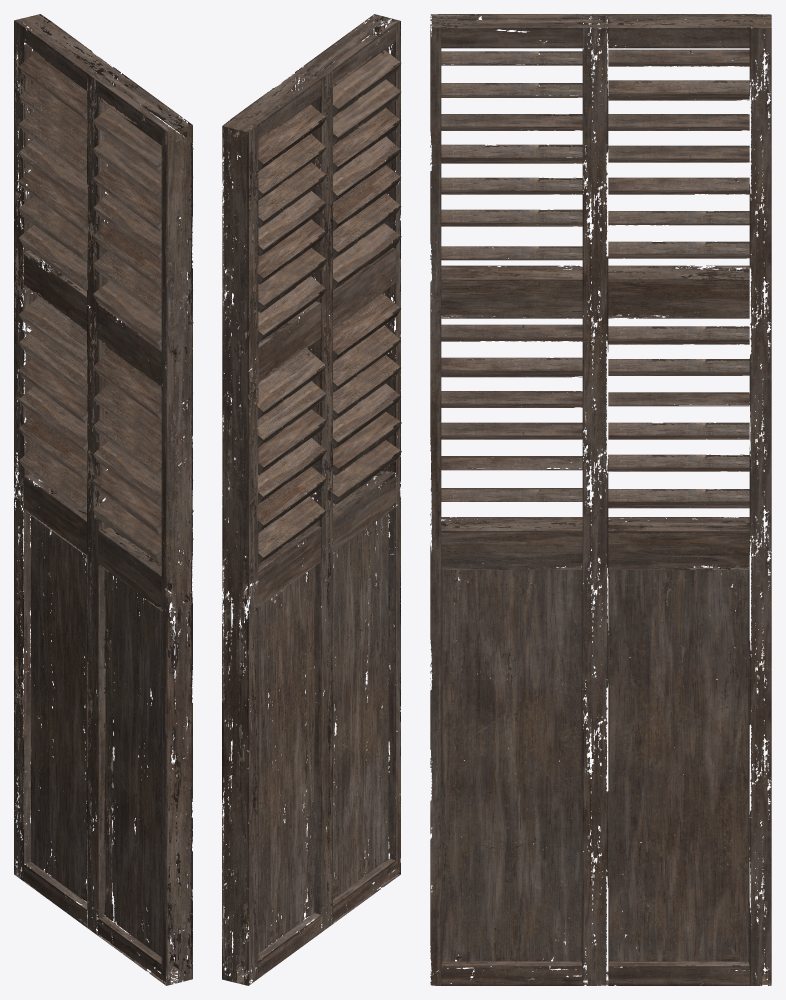
Rendered from SM_shutter_03.fbx.
3 views of the same model, side by side, from view 1: azimuth 30°, elevation 25°; view 2: azimuth 150°, elevation 25°; view 3: azimuth 270°, elevation 25° (orthographic). The views are drawn at different scales.
Parts seen in each view (by area): view 1: SM_shutter_03_LOD0; view 2: SM_shutter_03_LOD0; view 3: SM_shutter_03_LOD0.
Boxes of the visible parts, bbox=[...] form: SM_shutter_03_LOD0: bbox=[14, 14, 193, 985]; SM_shutter_03_LOD0: bbox=[222, 14, 401, 985]; SM_shutter_03_LOD0: bbox=[430, 14, 771, 985].
Size of the model in its own units: 11.58 by 80.01 by 248.
Materials: 1 (1 with a texture image).
